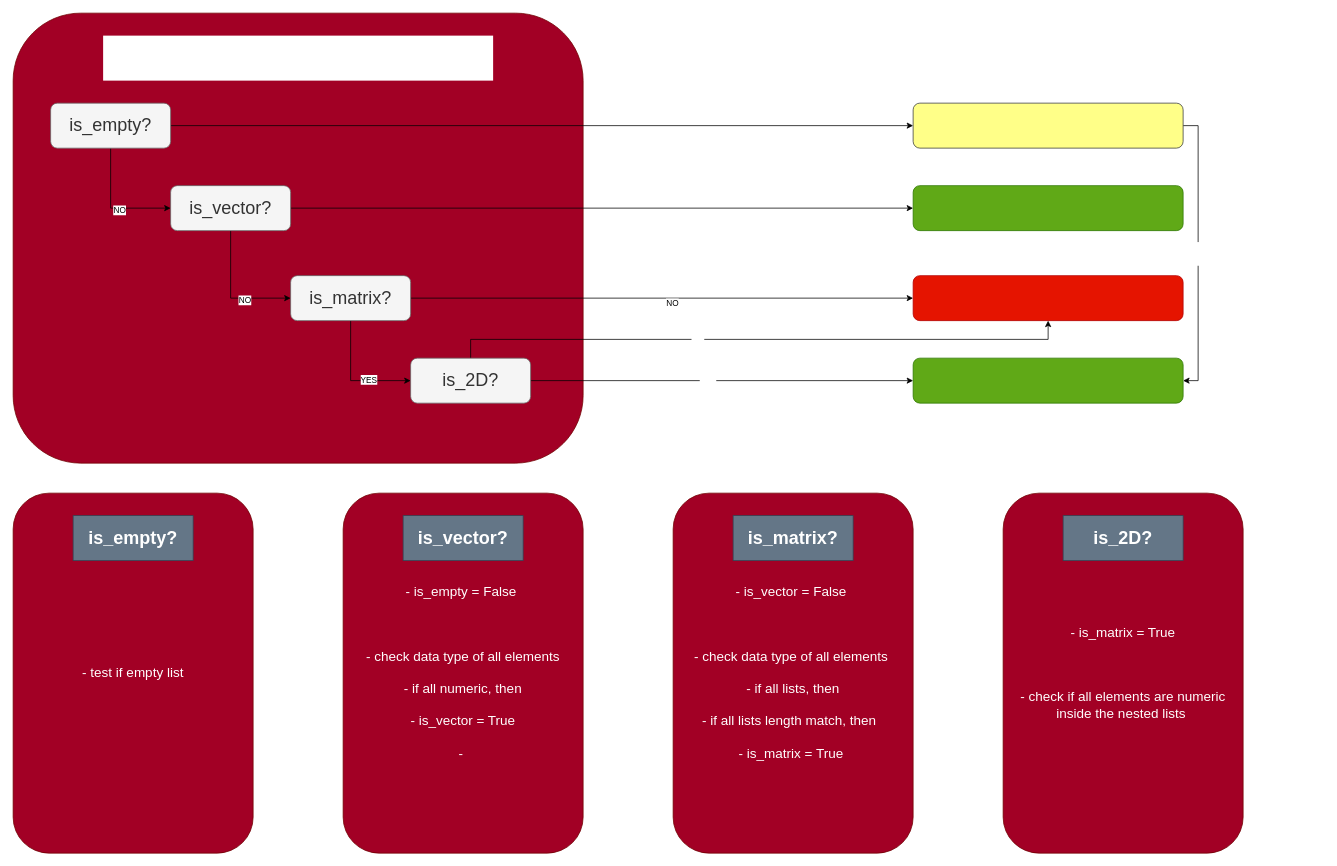
Some shapes in this 1337 by 866 pixel diagram are drawn without their labels. Here are the shapes that lost their labels. From the top down, the centre of each, then its label:
the point at 298,57: CONSTRUCTOR FUNCTION CHECKS
the point at 1047,125: is_empty = True
the point at 1047,208: is_vector = True
the point at 1047,298: raise_error!
the point at 1047,380: is_matrix = True
